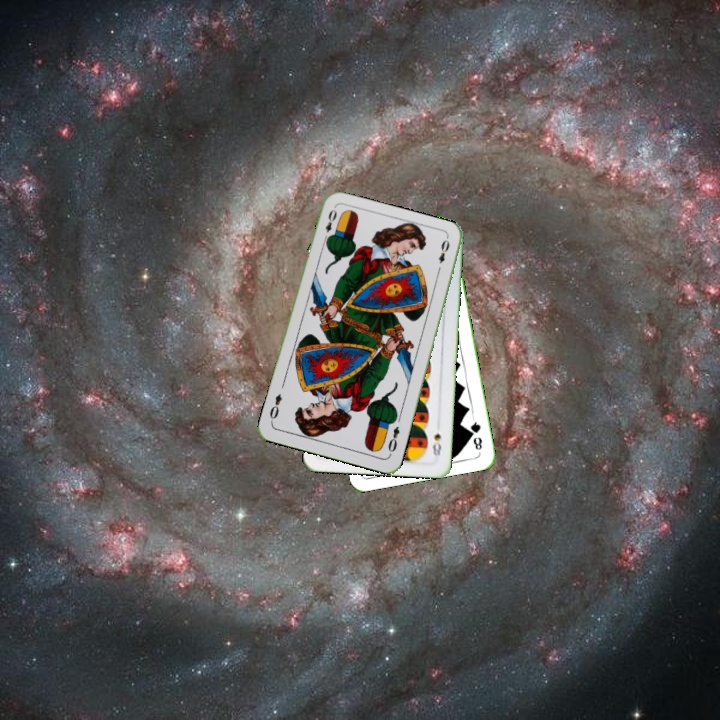EO: (319, 205, 339, 244), (384, 422, 403, 455)
G8: (466, 414, 485, 453)
S8: (428, 429, 444, 459)
